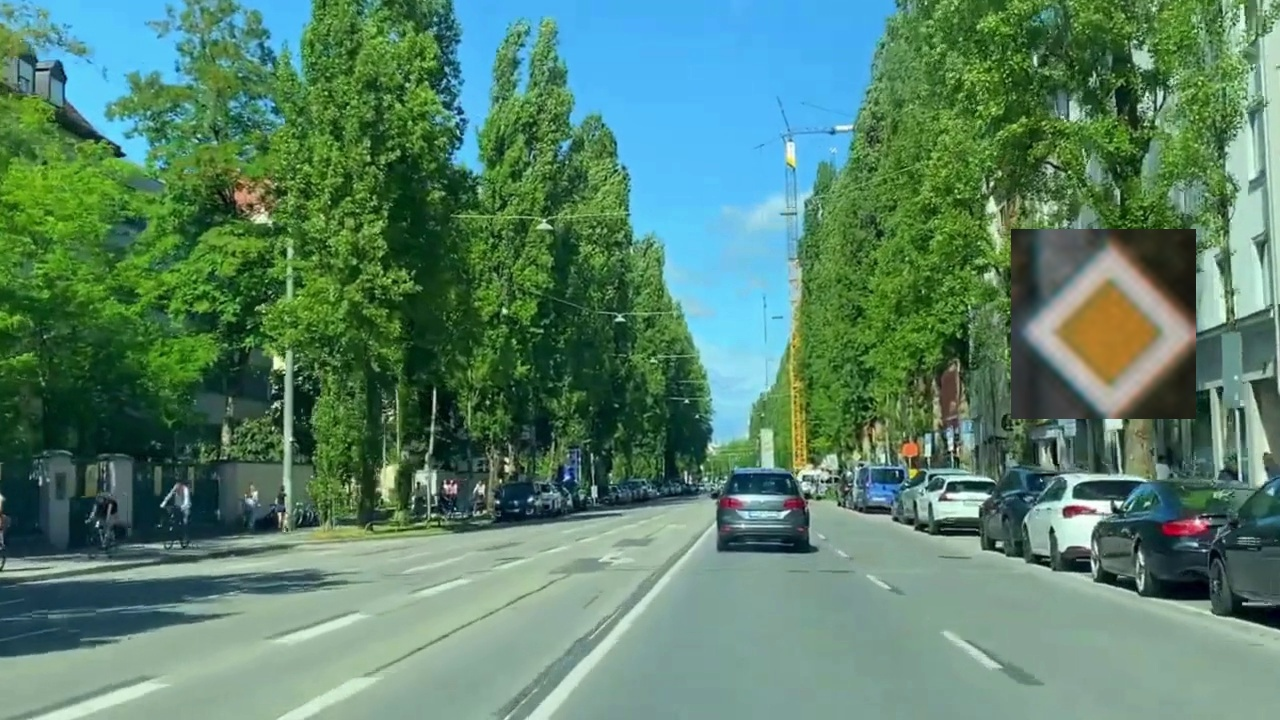Priority road: (1011, 229, 1196, 419)
